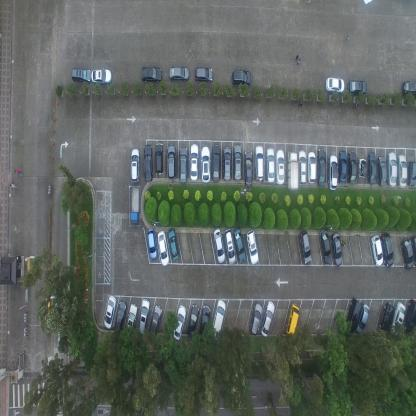car: (211, 298, 227, 342), (378, 301, 396, 338), (345, 296, 362, 334), (260, 299, 276, 338), (391, 300, 406, 338), (137, 297, 150, 340), (285, 302, 301, 336), (148, 304, 163, 340), (212, 226, 226, 264), (172, 303, 186, 341), (380, 231, 394, 268), (355, 302, 370, 336), (286, 149, 298, 191), (298, 230, 312, 266), (232, 228, 246, 263), (103, 294, 117, 329), (319, 229, 332, 266), (249, 302, 263, 336), (245, 228, 258, 264), (114, 298, 127, 334), (400, 238, 414, 270), (157, 230, 169, 267), (224, 228, 236, 265), (187, 304, 200, 338), (200, 144, 211, 184), (404, 298, 416, 334), (370, 233, 383, 266), (125, 303, 138, 336), (347, 77, 368, 97), (387, 150, 398, 188), (178, 144, 188, 185), (130, 185, 140, 226), (330, 232, 342, 266), (199, 304, 211, 338), (233, 142, 243, 182), (211, 144, 221, 184), (188, 142, 198, 182), (143, 142, 153, 182), (91, 66, 112, 85), (193, 65, 214, 84), (397, 152, 408, 188), (146, 228, 158, 261), (139, 66, 163, 82), (168, 228, 180, 260), (275, 148, 285, 186), (254, 144, 264, 182), (166, 142, 176, 180), (231, 68, 252, 86), (70, 66, 92, 83), (168, 65, 190, 82), (265, 146, 275, 183), (130, 146, 140, 183), (347, 149, 357, 184), (306, 150, 316, 185), (154, 141, 164, 176), (326, 75, 344, 94), (328, 152, 337, 190), (244, 149, 253, 187), (223, 144, 232, 182), (377, 153, 387, 187), (367, 151, 377, 185), (337, 150, 347, 184), (318, 146, 326, 188), (298, 149, 307, 185), (402, 78, 416, 98), (406, 160, 416, 187), (358, 156, 367, 179), (410, 233, 416, 262)
